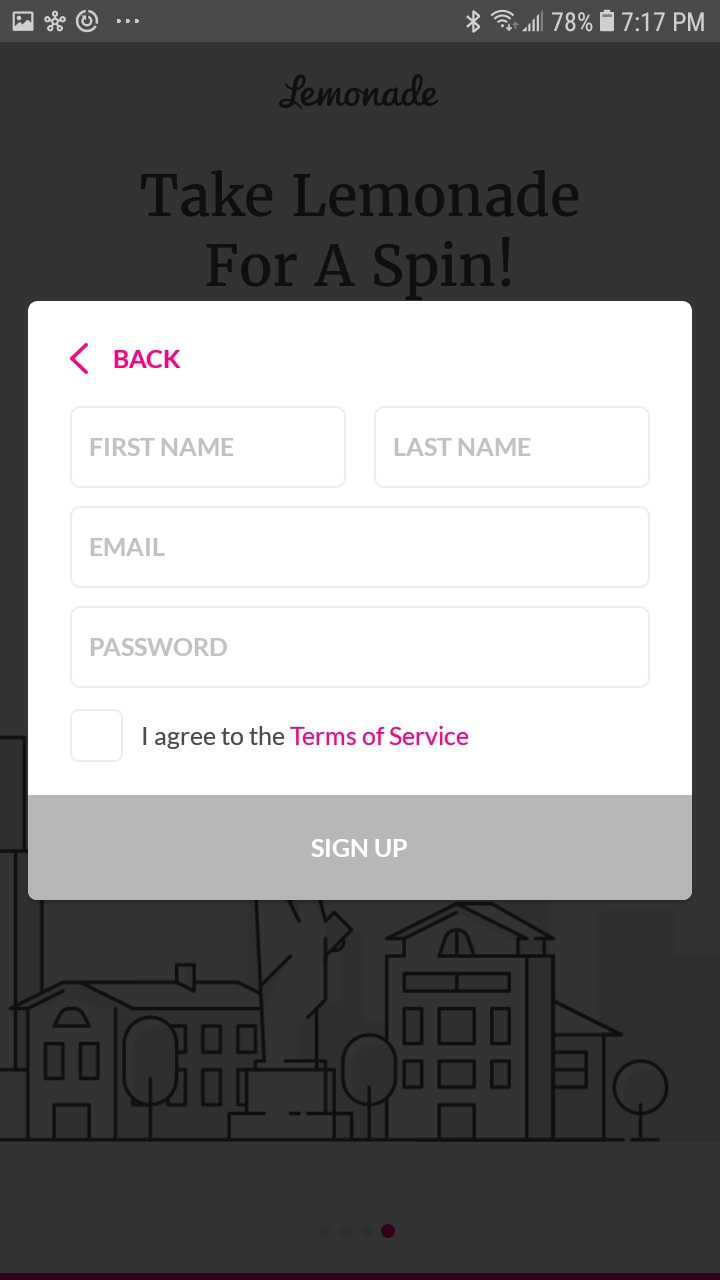CheckedTextView: (70, 709, 469, 763)
EditText: (71, 606, 651, 689), (70, 506, 650, 589), (374, 406, 650, 489), (71, 406, 347, 489)
Icon: (70, 343, 90, 375)
Modal: (29, 301, 692, 900)
PageIndicator: (318, 1224, 396, 1238)
Text: (141, 170, 579, 299), (143, 726, 469, 750), (279, 73, 439, 110), (91, 438, 235, 457), (394, 438, 531, 457), (91, 638, 228, 657), (91, 538, 166, 557), (114, 350, 181, 369)
TextButton: (29, 796, 692, 901)
UpperTaskBar: (1, 1, 720, 43)
